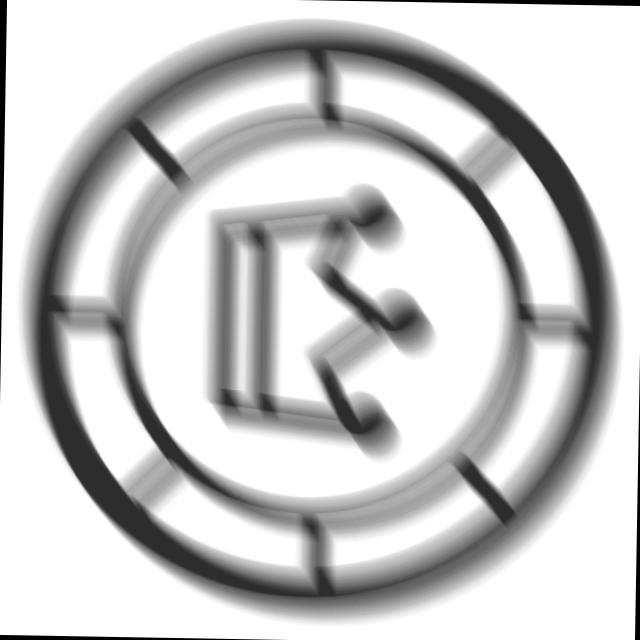coin: (4, 8, 633, 631)
